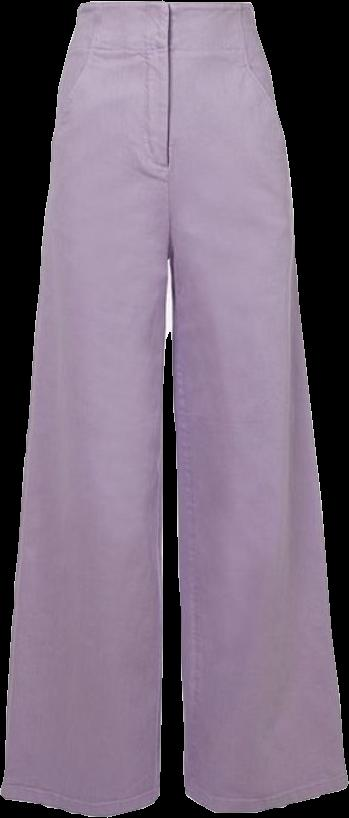Hemline: (181, 778, 348, 817), (0, 789, 163, 817)
Pantleg: (166, 2, 348, 811), (1, 2, 170, 815)
Waistline: (66, 40, 263, 58), (74, 0, 252, 14)
